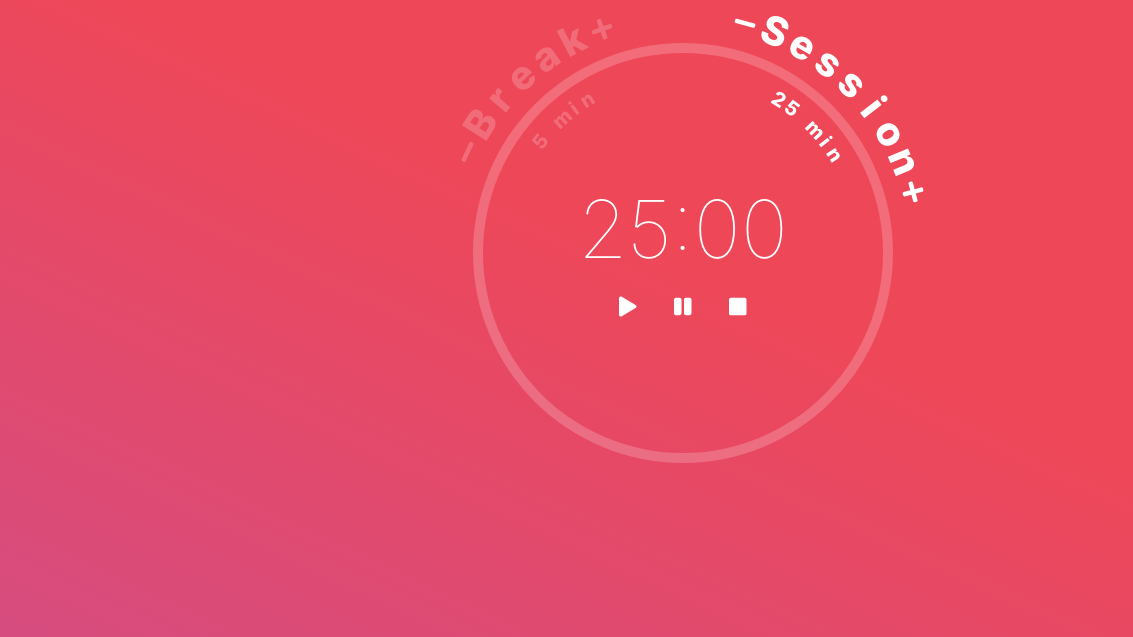
Test: App › Should increment session timer
Click the 2nd button with test id "increment" at point(913, 191), box [888,167,937,216]
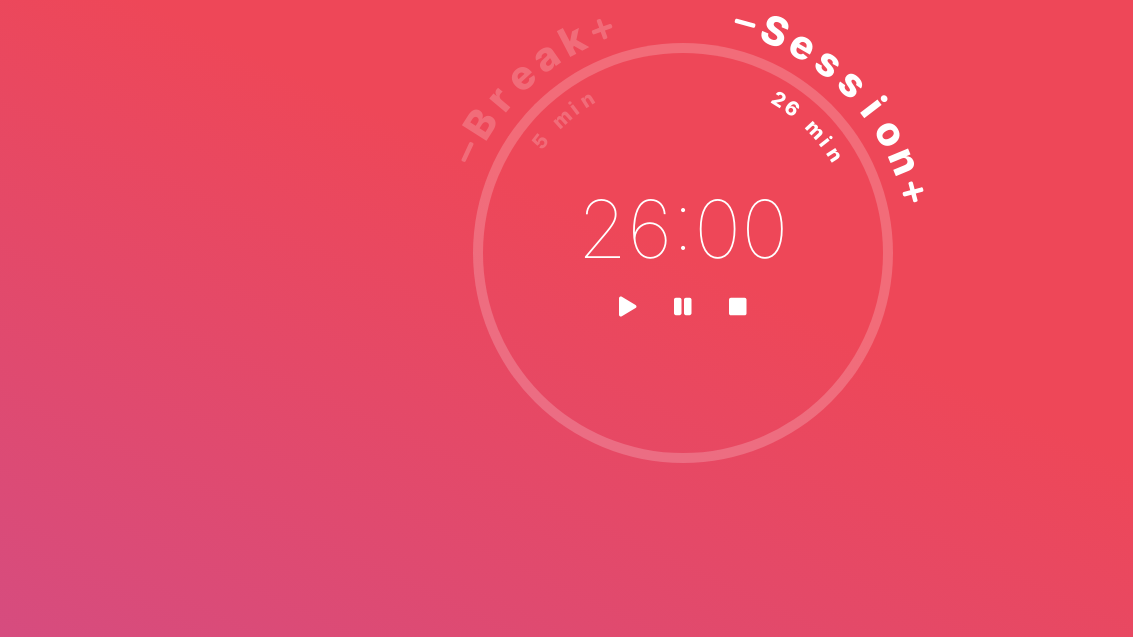
expect the text with test id "timer" reads "26:00": met, box [578,180,788,276]
